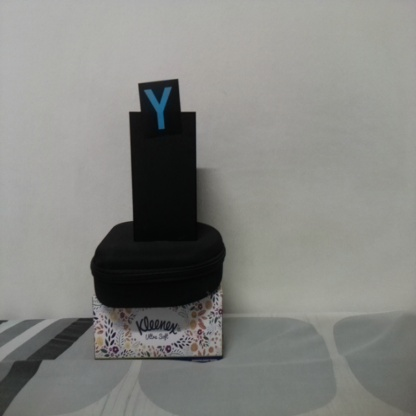id_14: (138, 82, 180, 136)
